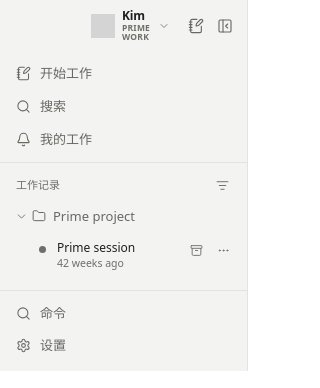
sidebar brand switcher › lists only harnesses with a detected executable
The image size is (320, 388).
Click the button with class "brand-switcher__trigger": (130, 26) [86, 7, 175, 45]
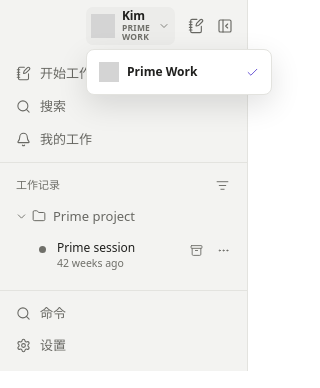
Now the menu is shown, box [86, 49, 272, 95]
Click the menu item "Prime Work": (179, 72) [91, 54, 267, 90]
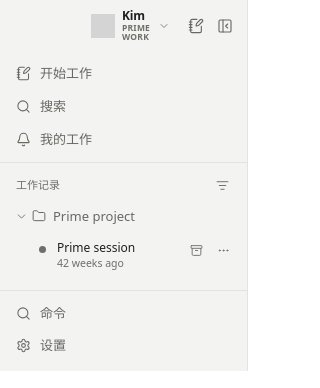
Now the menu is gone
